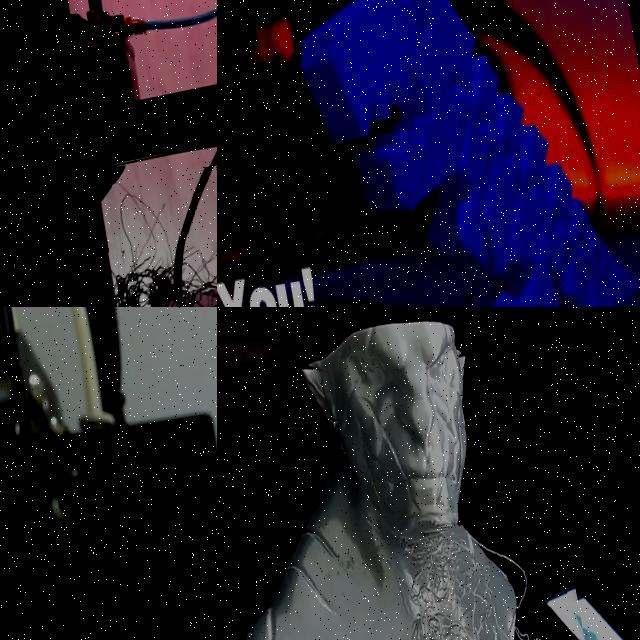spaghetti: (334, 507, 600, 640), (82, 123, 217, 307)
